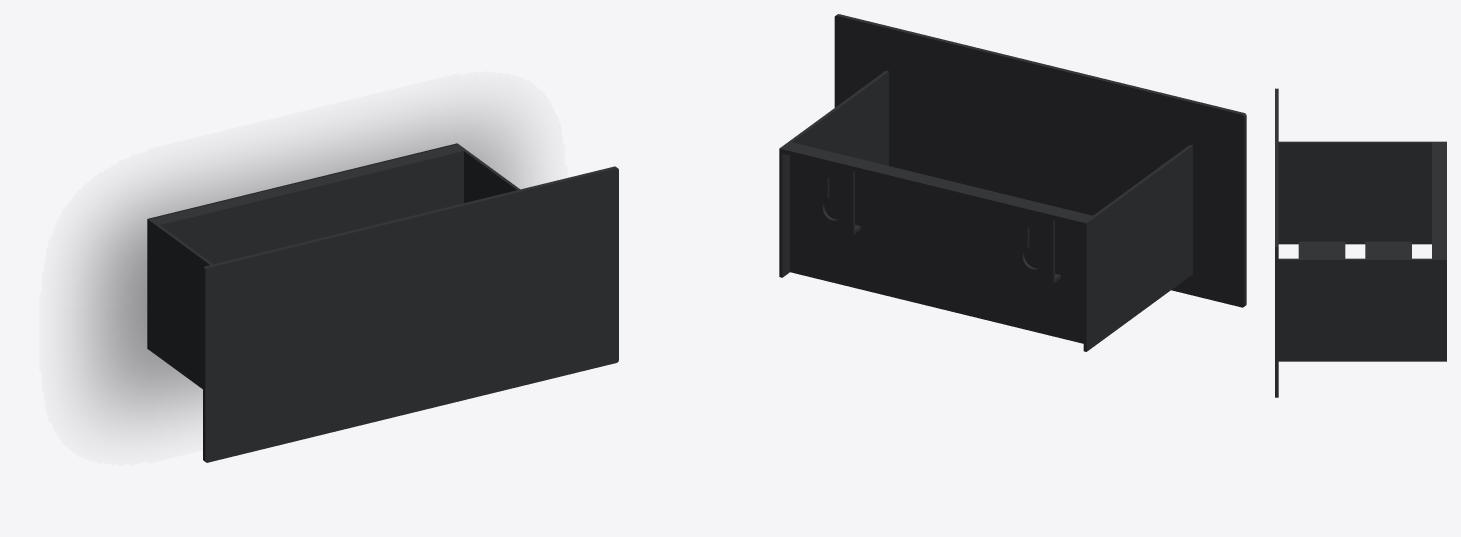
Rendered from skyline-mono.9b54e73b16.ar.glb.
3 views of the same model, side by side, from view 1: azimuth 30°, elevation 25°; view 2: azimuth 150°, elevation 25°; view 3: azimuth 270°, elevation 25° (orthographic). The views are drawn at different scales.
Visible parts, largest first — view 1: NAUO1, object 2; view 2: NAUO1; view 3: NAUO1.
Part boxes in pixels (<box>): NAUO1: <box>147,143,618,462</box>; object 2: <box>79,117,527,419</box>; NAUO1: <box>779,14,1246,351</box>; NAUO1: <box>1275,88,1446,397</box>.
Bounding box in the file's own units: 0.28 × 0.17 × 0.092.
2 materials, 1 textured.
